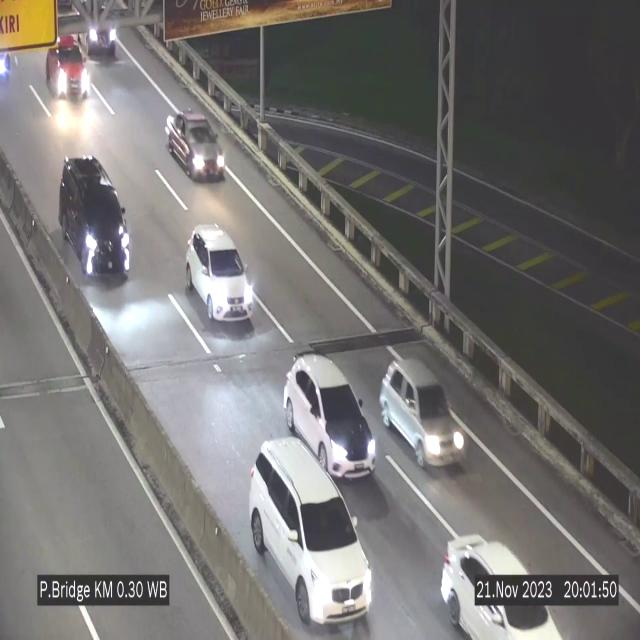Car: (250, 437, 372, 631), (437, 517, 565, 640), (284, 354, 376, 478), (382, 361, 472, 471), (57, 156, 133, 286), (186, 228, 256, 322), (43, 22, 91, 113), (166, 112, 226, 180)
